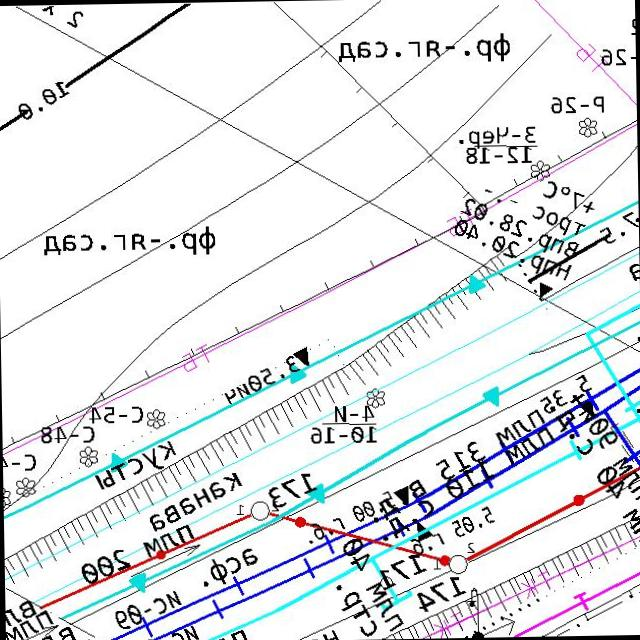asphalt: (202, 546, 260, 588)
bushes: (528, 159, 552, 182), (77, 445, 99, 468), (576, 116, 598, 138), (14, 476, 36, 498), (146, 408, 166, 430), (366, 386, 386, 408)
mark: (290, 344, 310, 369), (392, 482, 411, 507), (414, 519, 434, 542), (578, 398, 596, 418), (536, 280, 552, 298)
well: (446, 551, 470, 576), (248, 498, 272, 522)
